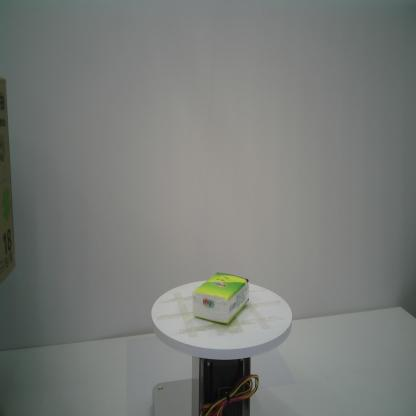Tissue: (192, 272, 250, 326)
